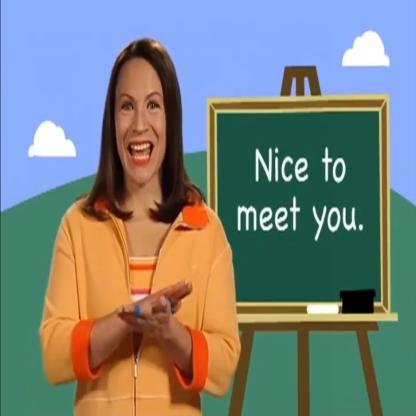NiceToMeetYou: (106, 253, 192, 354)
